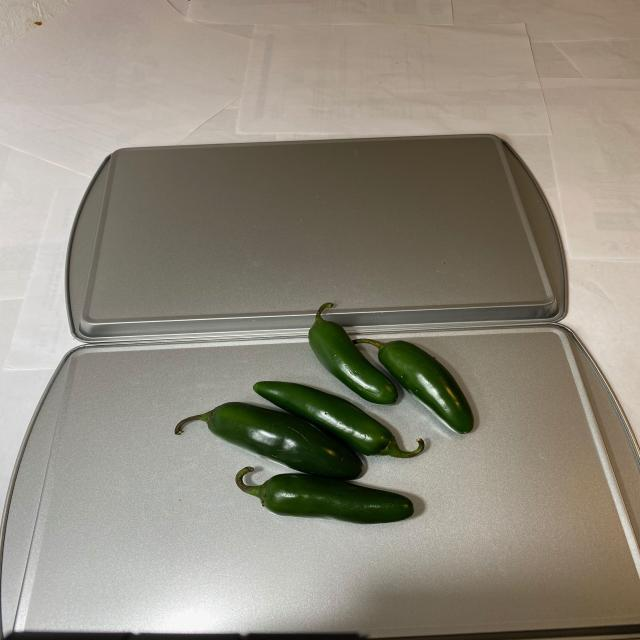chilli: (186, 303, 472, 541)
